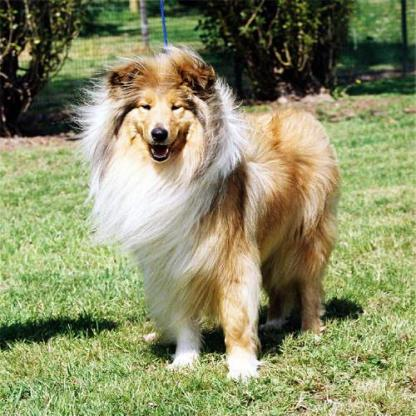collie: (74, 51, 340, 382)
